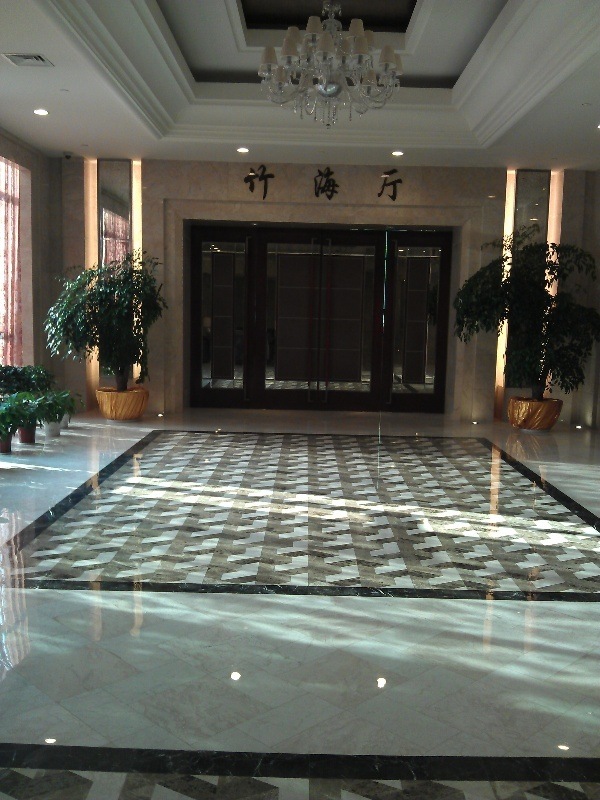text: (257, 163, 272, 204), (273, 163, 288, 204), (289, 163, 304, 204), (305, 163, 320, 204), (321, 163, 336, 204), (337, 163, 352, 204), (353, 163, 368, 204), (369, 163, 384, 204), (385, 163, 400, 204), (244, 163, 256, 204), (401, 163, 404, 204)
